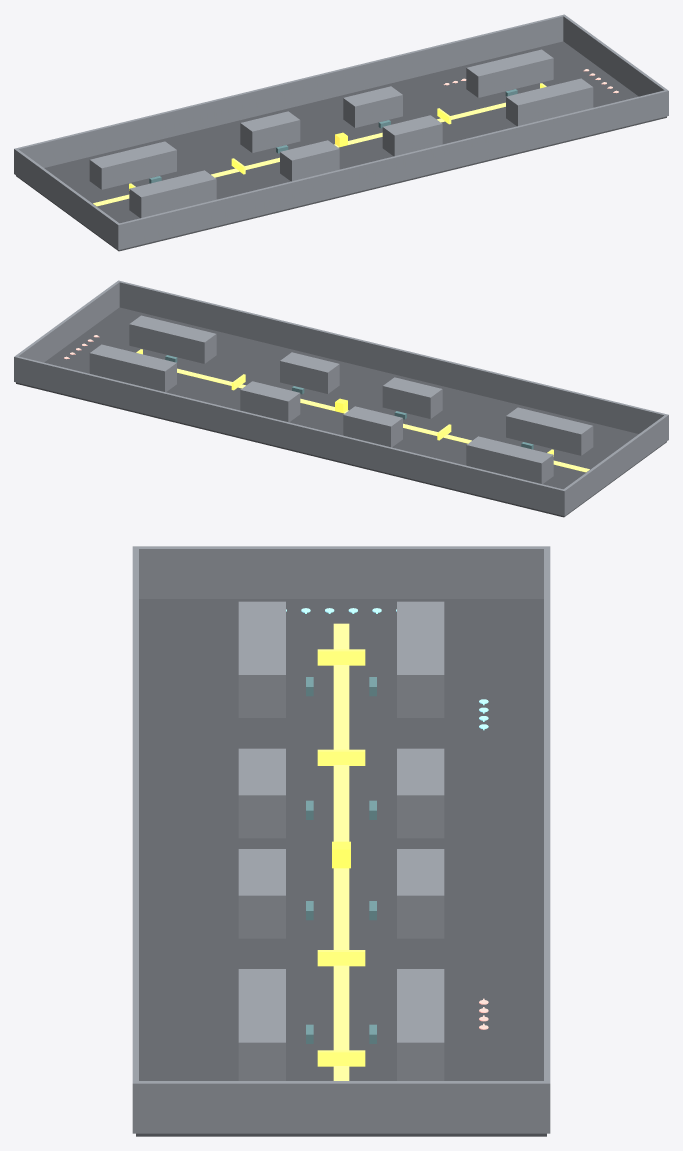
The model's file is tug_line.glb.
3 renders of one model, top to bottom at view 1: azimuth 30°, elevation 25°; view 2: azimuth 150°, elevation 25°; view 3: azimuth 270°, elevation 25°, orthographic. The views are drawn at different scales.
Visible parts, largest first — view 1: floor, perimeter.S0, perimeter.N0, perimeter.W0, bldg_1_-66, bldg_1_44, bldg_-1_-66, bldg_-1_44, perimeter.E0, bldg_1_-22, bldg_1_8, bldg_-1_8 (+2 smaller); view 2: floor, perimeter.N0, perimeter.S0, perimeter.W0, bldg_-1_-66, bldg_-1_44, bldg_1_-66, bldg_1_44, perimeter.E0, bldg_-1_-22, bldg_-1_8, bldg_1_8 (+2 smaller); view 3: floor, perimeter.E0, perimeter.W0, track, bldg_-1_-66, bldg_1_-66, bldg_-1_44, bldg_1_44, bldg_-1_-22, bldg_1_-22, bldg_-1_8, bldg_1_8 (+2 smaller).
Part boxes in pixels (x1,y1,x2,y2): floor: [16, 41, 666, 251]; perimeter.S0: [116, 90, 668, 249]; perimeter.N0: [14, 14, 565, 174]; perimeter.W0: [14, 148, 120, 249]; bldg_1_-66: [89, 141, 176, 189]; bldg_1_44: [466, 49, 553, 97]; bldg_-1_-66: [129, 170, 216, 218]; bldg_-1_44: [506, 78, 593, 126]; perimeter.E0: [562, 15, 668, 116]; bldg_1_-22: [240, 111, 300, 152]; bldg_1_8: [343, 86, 402, 127]; bldg_-1_8: [382, 115, 442, 156]; floor: [16, 307, 666, 517]; perimeter.N0: [14, 356, 566, 515]; perimeter.S0: [117, 280, 668, 437]; perimeter.W0: [562, 414, 668, 515]; bldg_-1_-66: [506, 407, 593, 455]; bldg_-1_44: [129, 315, 216, 363]; bldg_1_-66: [466, 436, 553, 484]; bldg_1_44: [89, 344, 176, 392]; perimeter.E0: [14, 280, 120, 382]; bldg_-1_-22: [382, 377, 442, 418]; bldg_-1_8: [280, 352, 339, 393]; bldg_1_8: [240, 381, 300, 422]; floor: [136, 599, 546, 1136]; perimeter.E0: [132, 1081, 550, 1133]; perimeter.W0: [133, 546, 548, 598]; track: [333, 623, 349, 1080]; bldg_-1_-66: [238, 601, 285, 717]; bldg_1_-66: [397, 601, 444, 717]; bldg_-1_44: [238, 969, 285, 1080]; bldg_1_44: [397, 969, 444, 1080]; bldg_-1_-22: [238, 748, 285, 838]; bldg_1_-22: [397, 748, 444, 838]; bldg_-1_8: [238, 849, 285, 938]; bldg_1_8: [397, 849, 444, 938].
Bounding box in the file's own units: 161 × 7.6 × 52.8.
